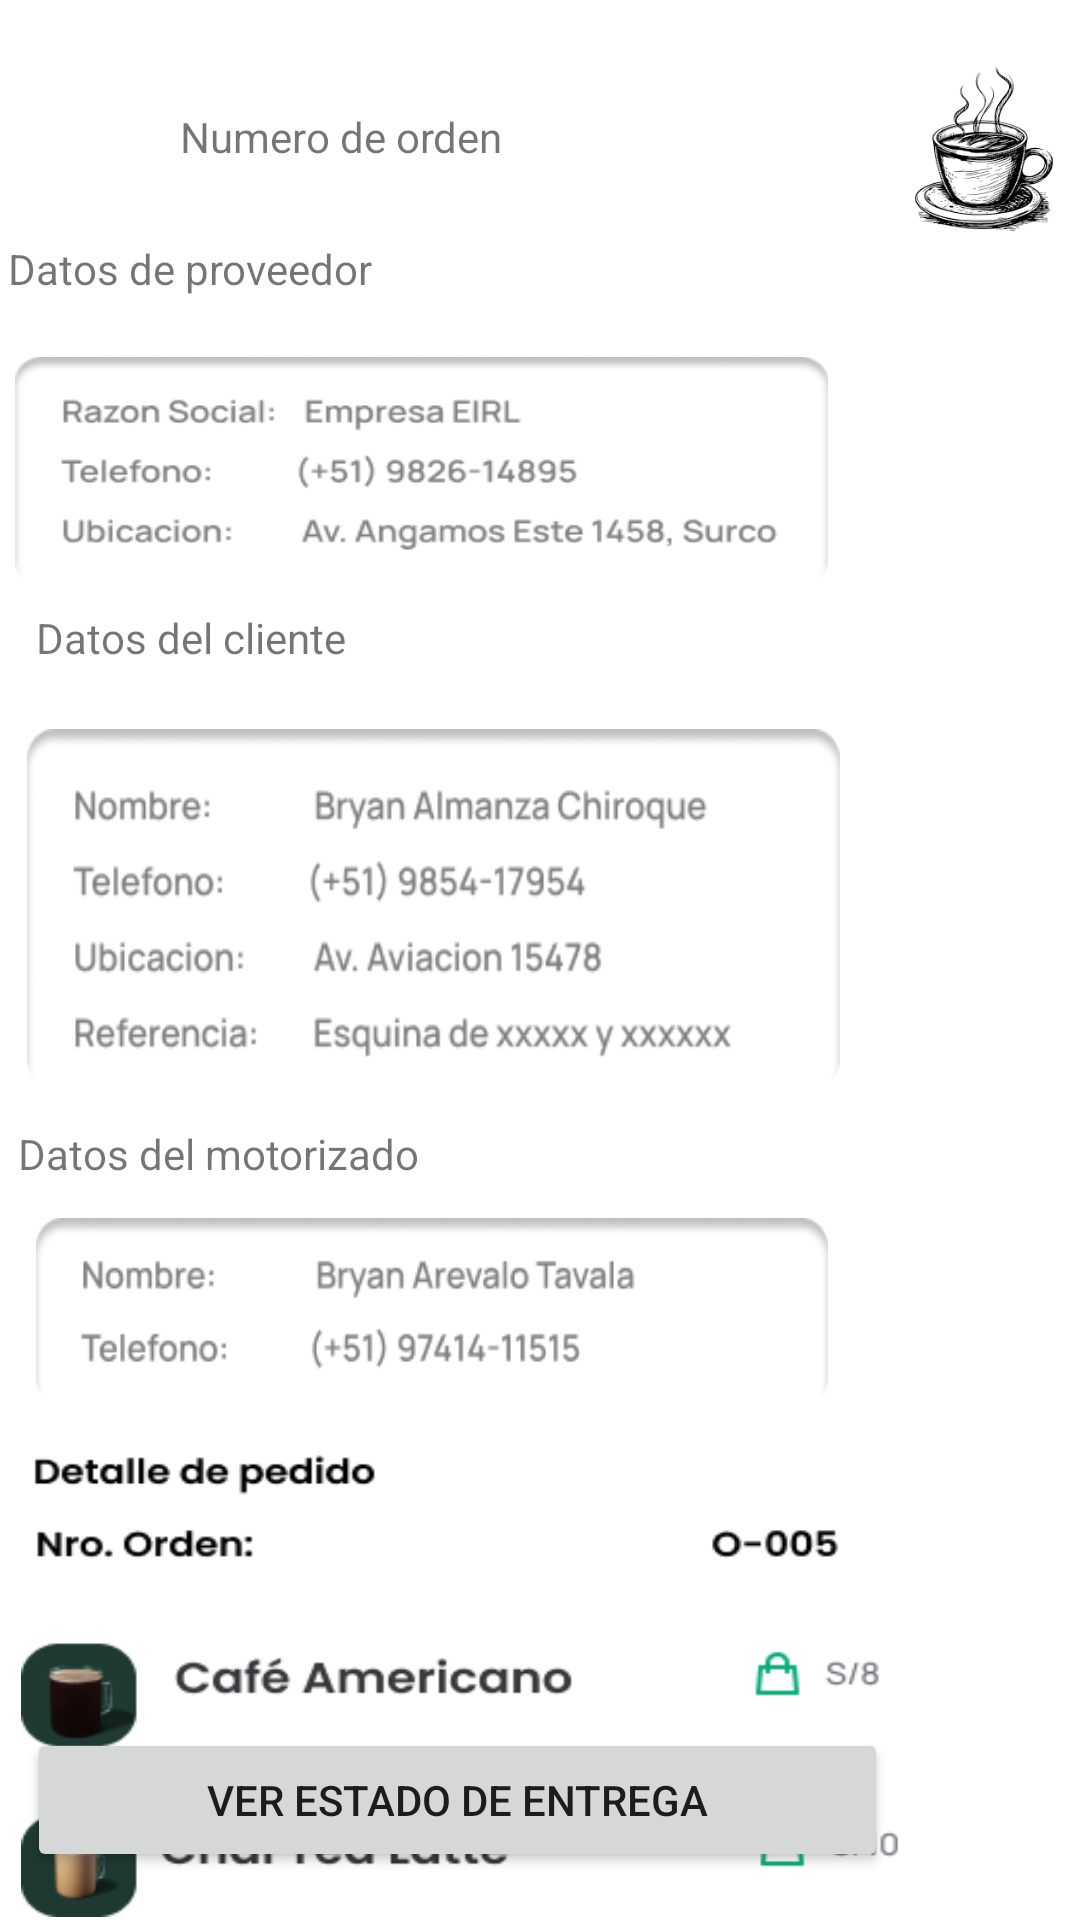

Screen size 1080px×1920px. Icon name, then its center in pixels as (x=x, y=y):
coffe: (x=984, y=149)
